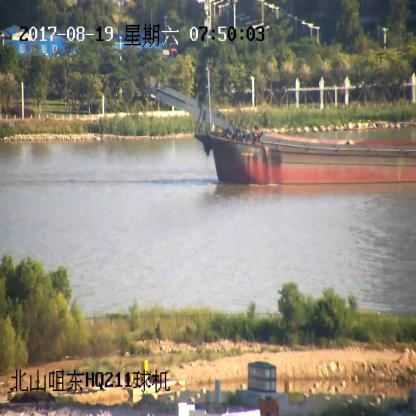Bulk Carrier: (149, 67, 415, 186)
